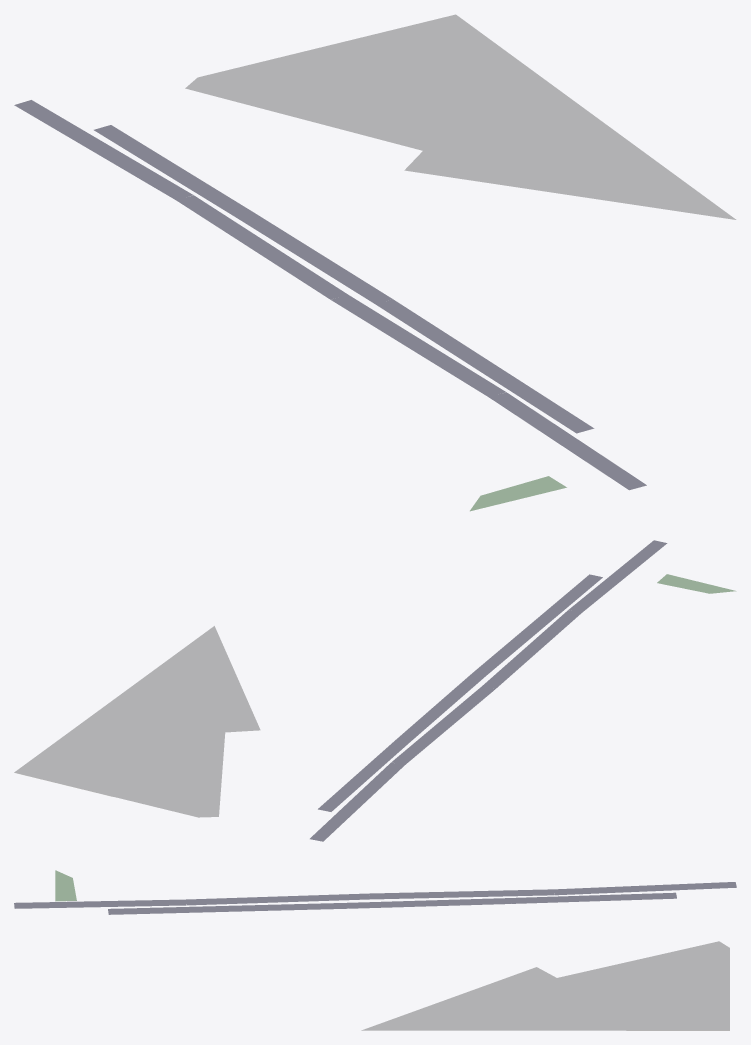
Rendered from 94_112_mid.glb.
3 views of the same model, one above another, from view 1: azimuth 30°, elevation 25°; view 2: azimuth 150°, elevation 25°; view 3: azimuth 270°, elevation 25° (orthographic). The views are drawn at different scales.
Size of the model in its own units: 281 by 7.4 by 536.
